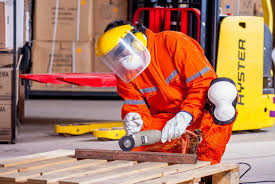Person_wearing_helmet: (103, 19, 148, 68)
